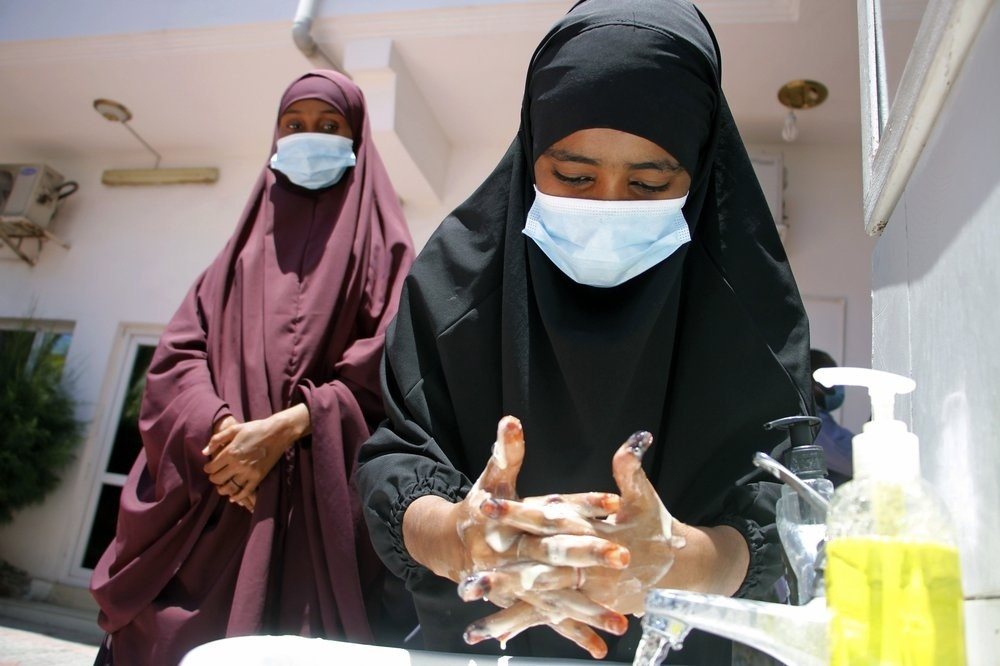face_with_mask: (523, 1, 737, 294), (263, 64, 374, 194)
